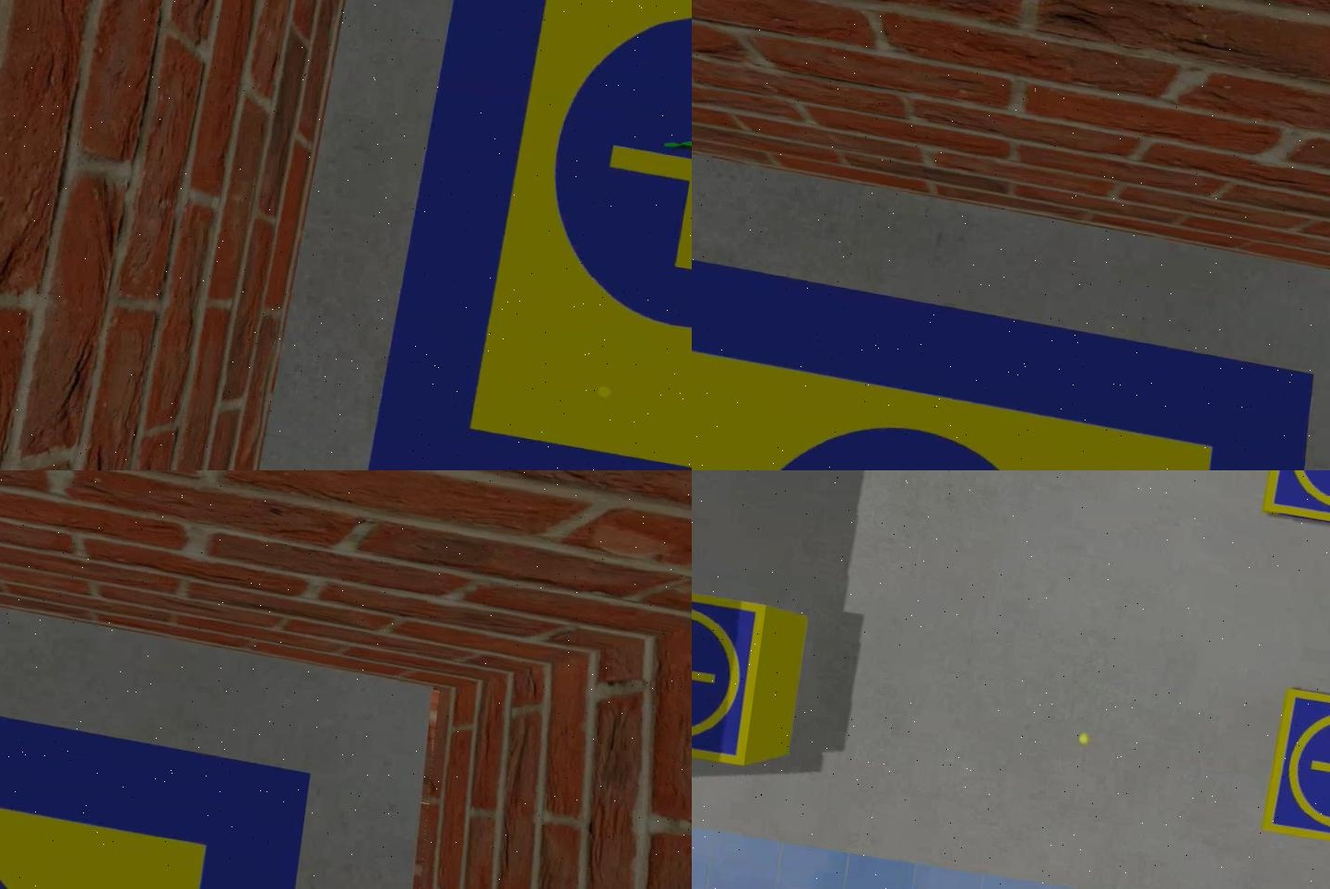large_base: (356, 1, 690, 471), (690, 227, 1328, 471), (0, 626, 318, 889)
small_base: (690, 575, 769, 771), (1258, 686, 1328, 857), (1260, 471, 1328, 538)
